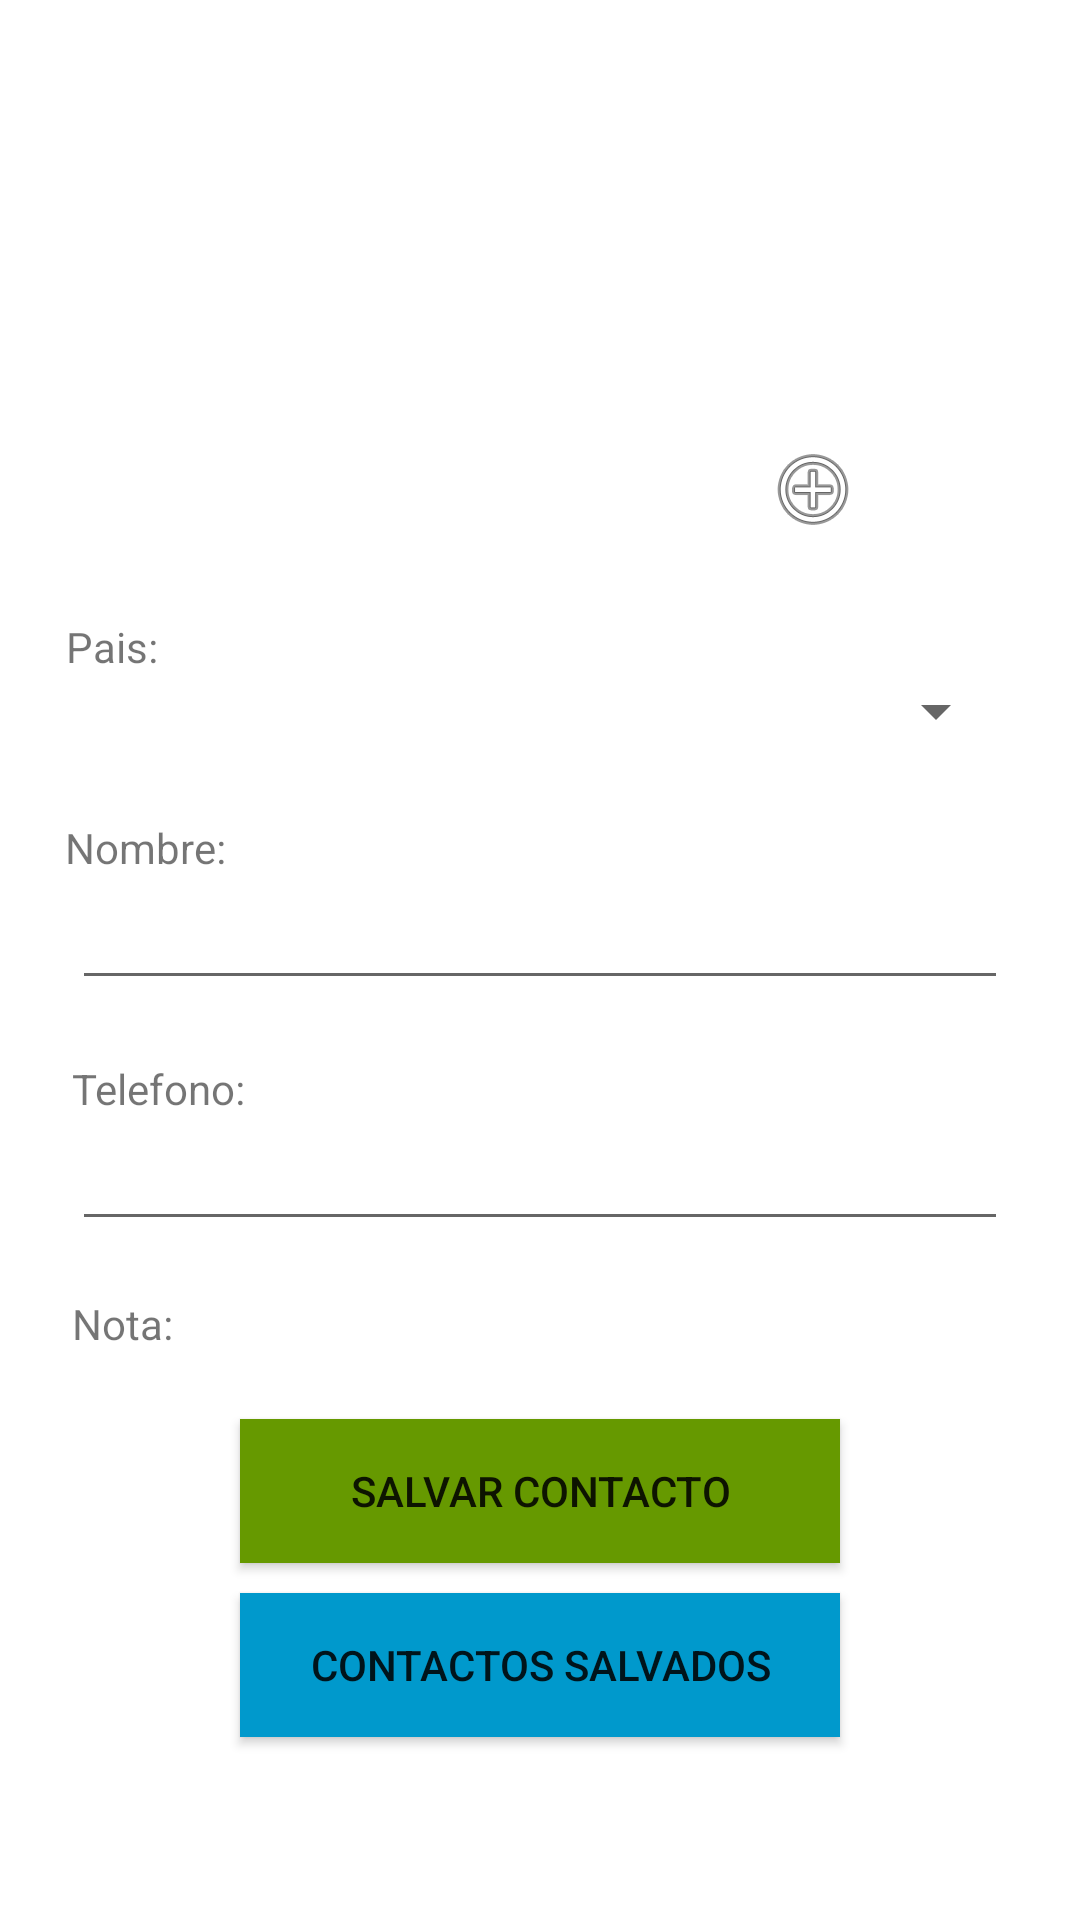

Named icons in this screenshot (1080*1920) and their centers, [x,y]:
add: [813,489]
